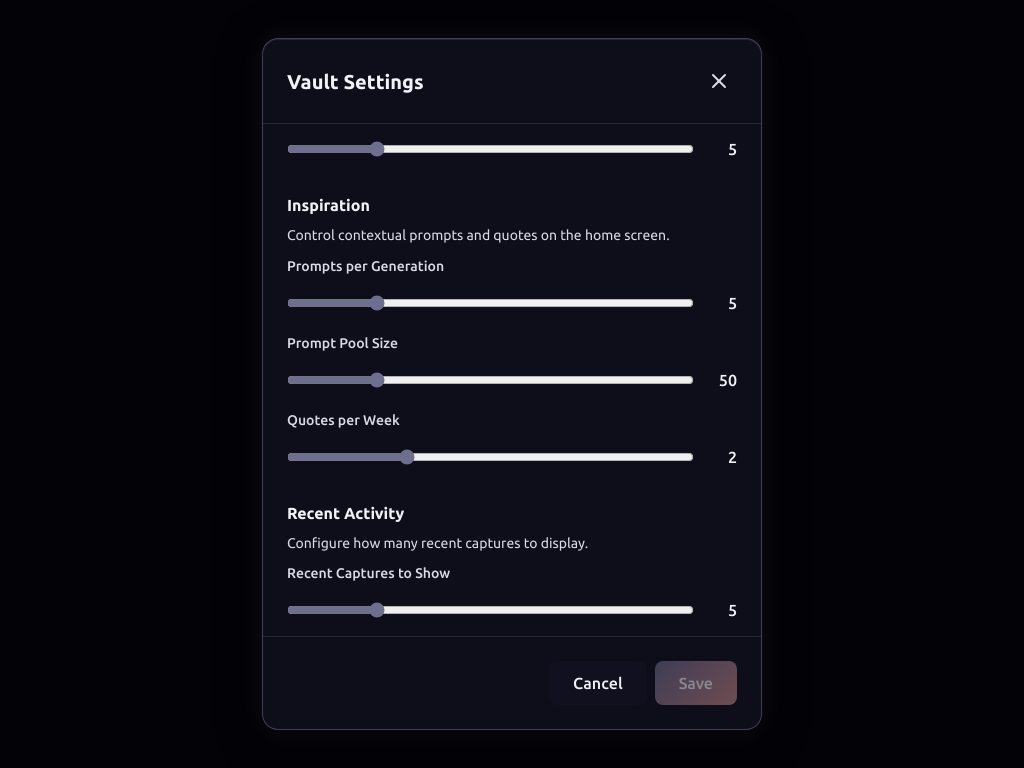
Test case: ConfigEditorDialog › slider interactions › maxPoolSize slider value display updates when slider is moved
The width and height of the screenshot is (1024, 768).
(page scrolled)
Set the slider labelled "Prompt Pool Size" to "100" at (480, 380), box left=287, top=358, right=694, bottom=402
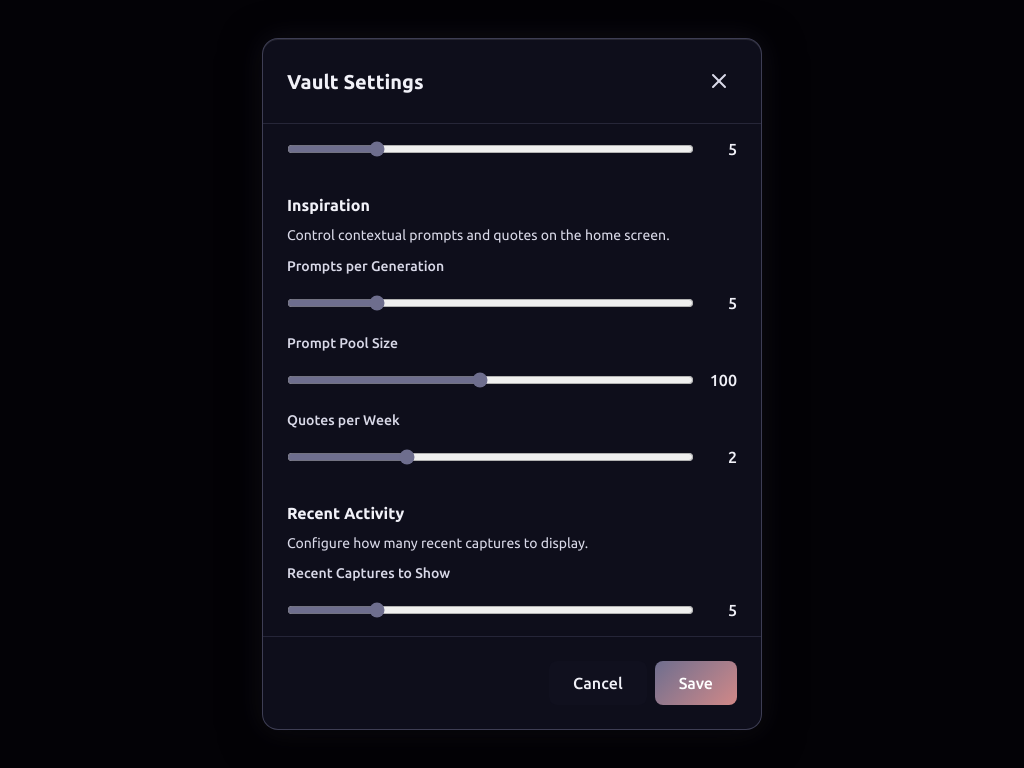
Result: the text with class "config-editor__slider-value" reads "100" at left=710, top=371, right=737, bottom=389
